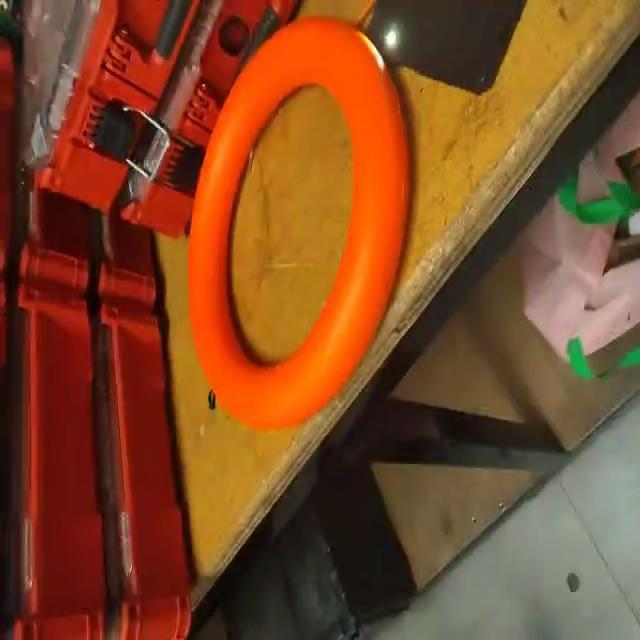note: (187, 17, 418, 433)
